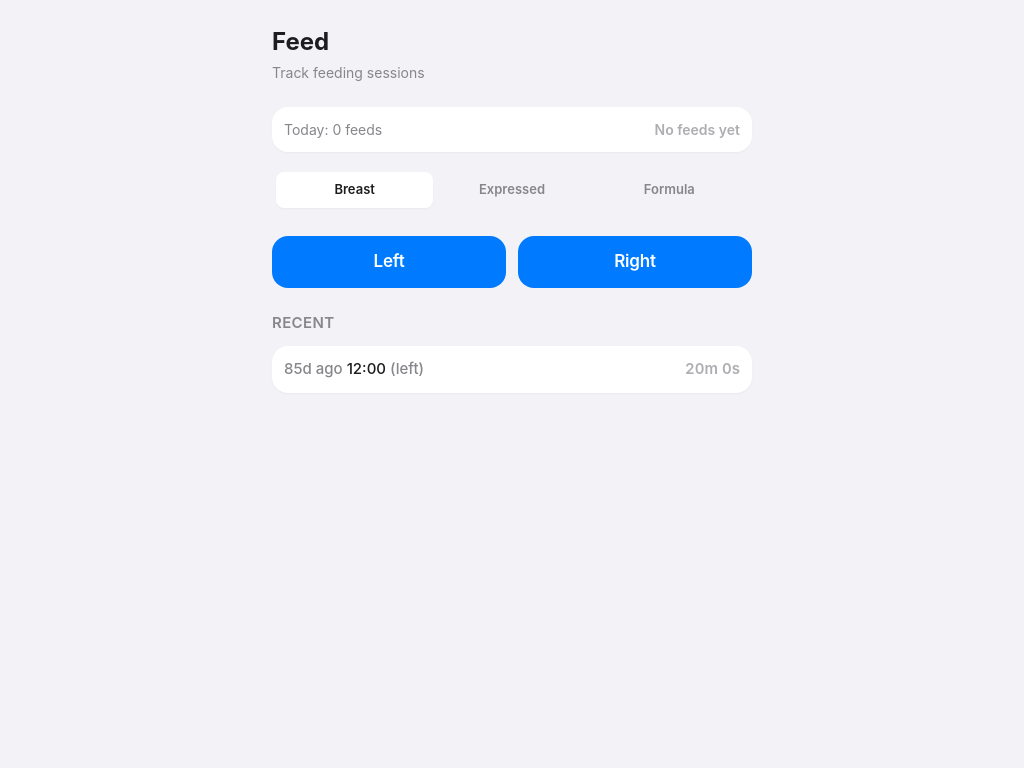
Feed › opens edit modal when clicking an entry
The width and height of the screenshot is (1024, 768).
Click the text "20m 0s".
click(713, 369)  # box [685,358,740,380]
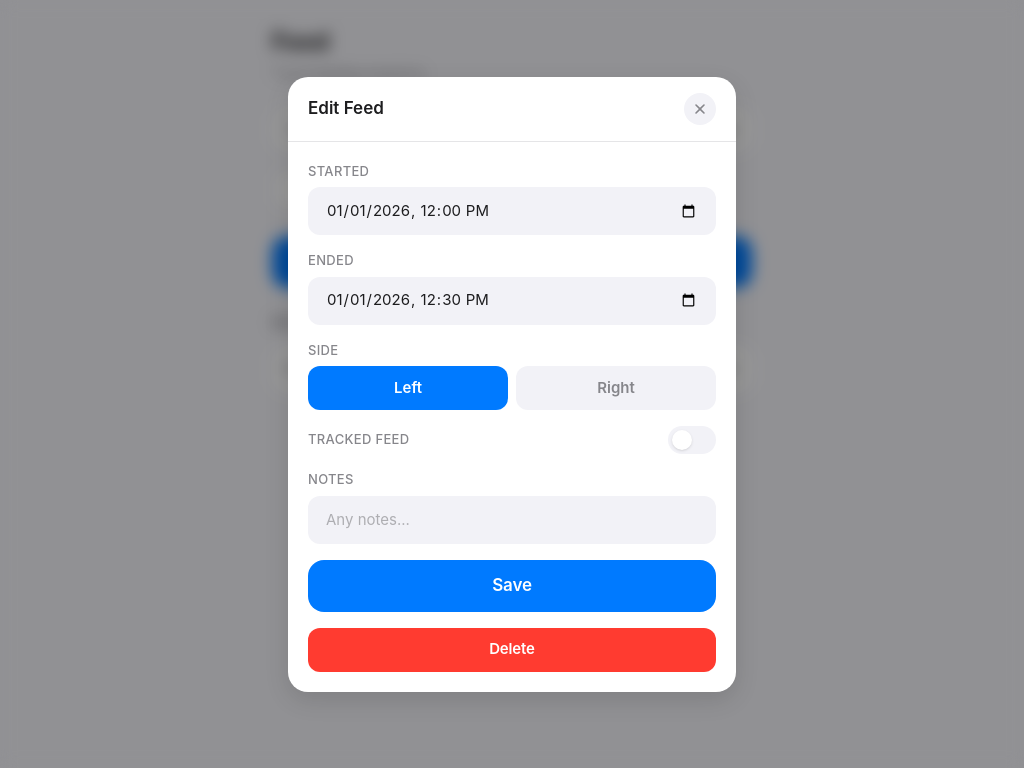
expect the heading "Edit Feed" is shown: met, box [308,96,384,121]
